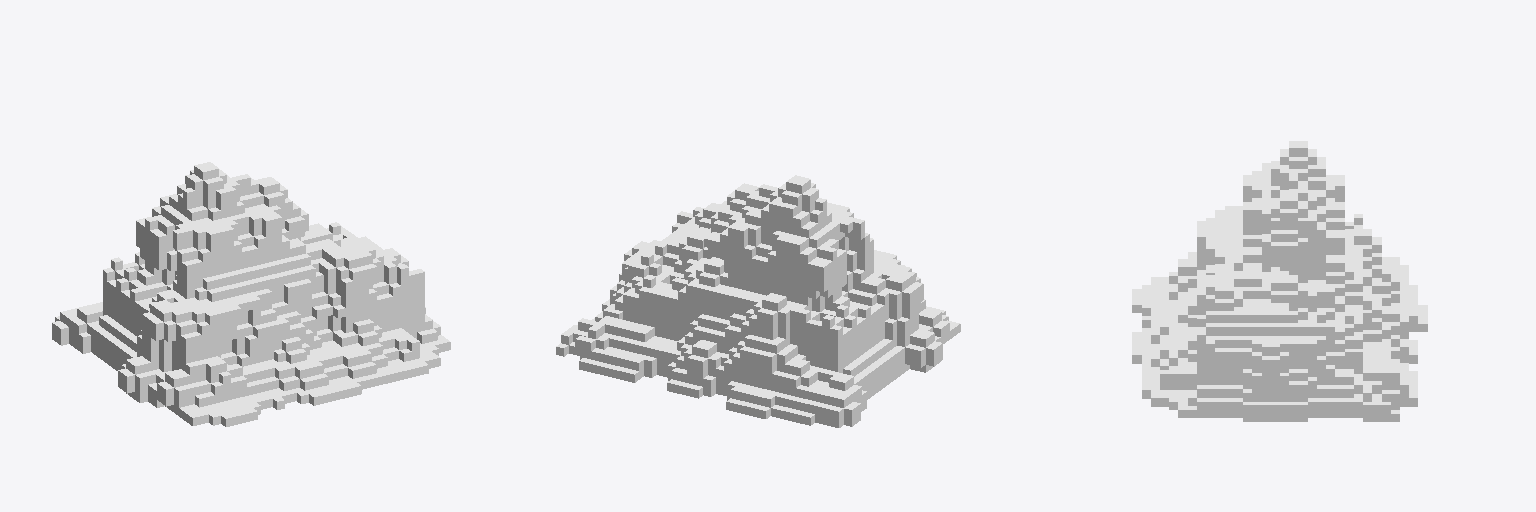
The model's file is SpaceRock.obj.
3 renders of one model, left to right at view 1: azimuth 30°, elevation 25°; view 2: azimuth 150°, elevation 25°; view 3: azimuth 270°, elevation 25°, orthographic.
Visible parts, largest first — view 1: SpaceRock; view 2: SpaceRock; view 3: SpaceRock.
Boxes of the visible parts, x1,y1,x2,y2 form: SpaceRock: [52, 162, 450, 426]; SpaceRock: [556, 175, 960, 427]; SpaceRock: [1132, 141, 1427, 421].
Size of the model in its own units: 38 by 22 by 32.